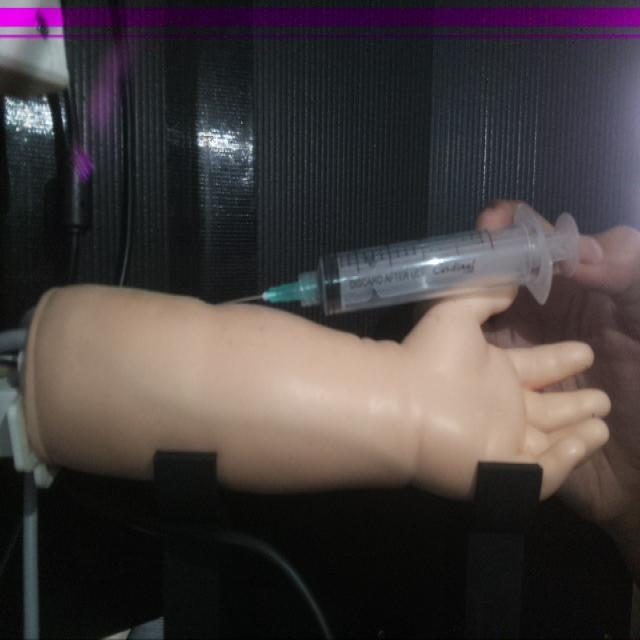Outside: (228, 200, 583, 319)
